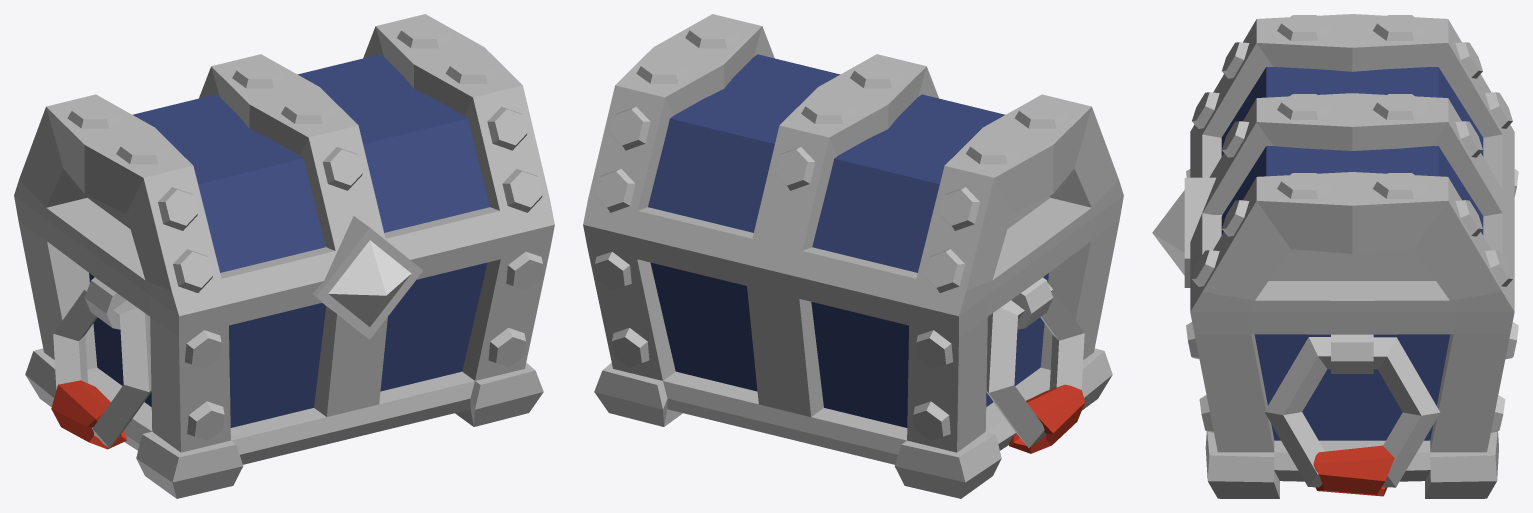
Rendered from r_chest_silver.fbx.
The picture shows the model from 3 angles, left to right: view 1: azimuth 30°, elevation 25°; view 2: azimuth 150°, elevation 25°; view 3: azimuth 270°, elevation 25°; orthographic projection.
Visible parts, largest first — view 1: chest_silver_top, chest_silver_bottom; view 2: chest_silver_top, chest_silver_bottom; view 3: chest_silver_top, chest_silver_bottom.
Part boxes in pixels (left/top/right/bottom): chest_silver_top: left=14, top=14, right=554, bottom=339; chest_silver_bottom: left=14, top=196, right=554, bottom=498; chest_silver_top: left=583, top=14, right=1123, bottom=316; chest_silver_bottom: left=583, top=196, right=1123, bottom=498; chest_silver_top: left=1152, top=14, right=1514, bottom=312; chest_silver_bottom: left=1186, top=169, right=1518, bottom=498.
Size of the model in its own units: 115 by 80.54 by 85.78.
